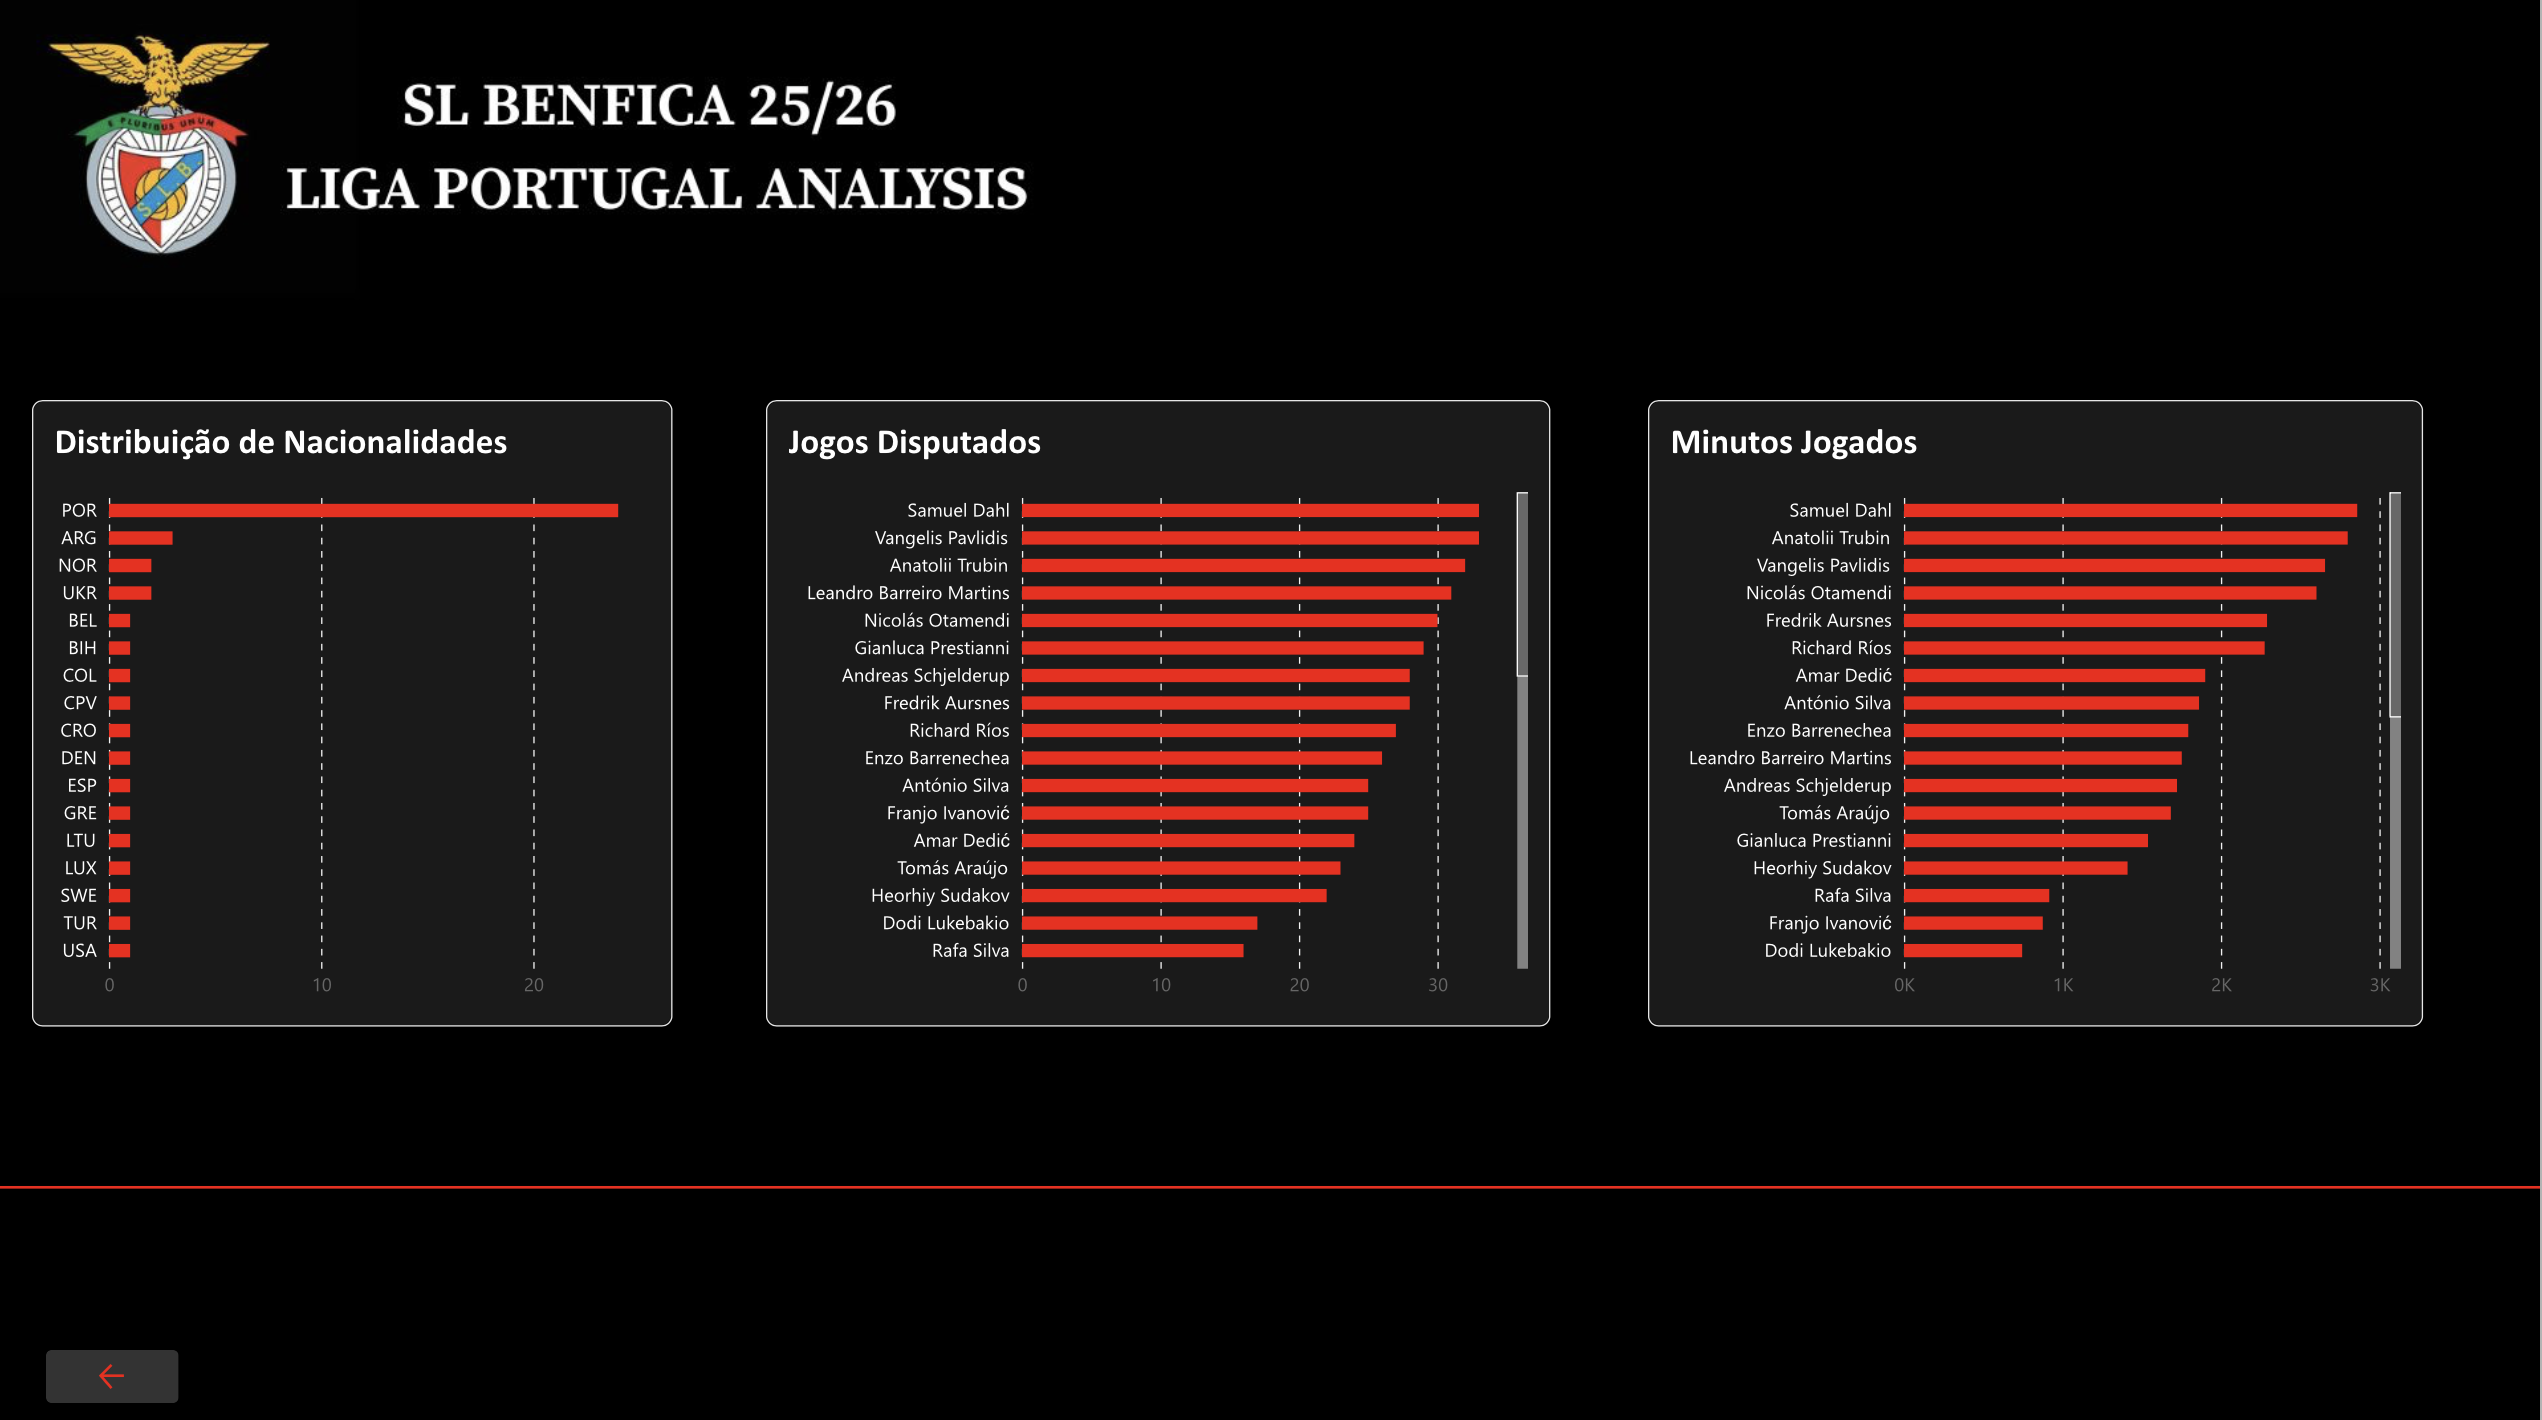

The page's visual inventory and layout, read from the dashboard file:
{"tool":"powerbi","page":{"name":"Page 3","canvas":[1920,1080],"ordinal":2},"visuals":[{"type":"clusteredBarChart","title":"Distribuição de Nacionalidades","fields":{"Category":["jogadoresBefica_2526.Nation"],"Y":["CountNonNull(jogadoresBefica_2526.Player)"]},"box":[28,304.5,483.1,472.6],"z":0},{"type":"clusteredBarChart","title":"Jogos Disputados","fields":{"Category":["jogadoresBefica_2526.Player"],"Y":["Sum(jogadoresBefica_2526.MP)"]},"box":[582.8,304.5,591.6,472.6],"z":1000},{"type":"clusteredBarChart","title":"Minutos Jogados","fields":{"Category":["jogadoresBefica_2526.Player"],"Y":["Sum(jogadoresBefica_2526.Min)"]},"box":[1247.9,304.5,584.6,472.6],"z":2000},{"type":"shape","box":[0,777.1,1920,243.3],"z":3000},{"type":"textbox","box":[208.3,962.6,1501.7,99.8],"z":4000},{"type":"actionButton","box":[38.5,1020.4,100,40],"z":4001}]}

Visuals, with their boxes in screenshot pixels (x1, y1, x2, y2), scaled from the page's 1920x1080 canvas onto the 2542x1420 screenshot:
"Distribuição de Nacionalidades" clusteredBarChart: bbox=(37, 400, 677, 1022)
"Jogos Disputados" clusteredBarChart: bbox=(772, 400, 1555, 1022)
"Minutos Jogados" clusteredBarChart: bbox=(1652, 400, 2426, 1022)
shape: bbox=(0, 1022, 2541, 1342)
textbox: bbox=(276, 1266, 2264, 1397)
actionButton: bbox=(51, 1342, 183, 1394)
